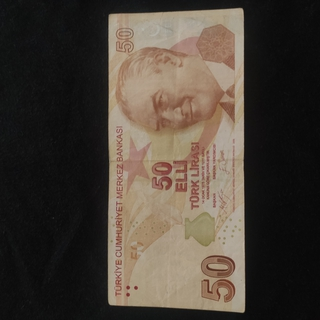50TLFront: (107, 7, 246, 313)
